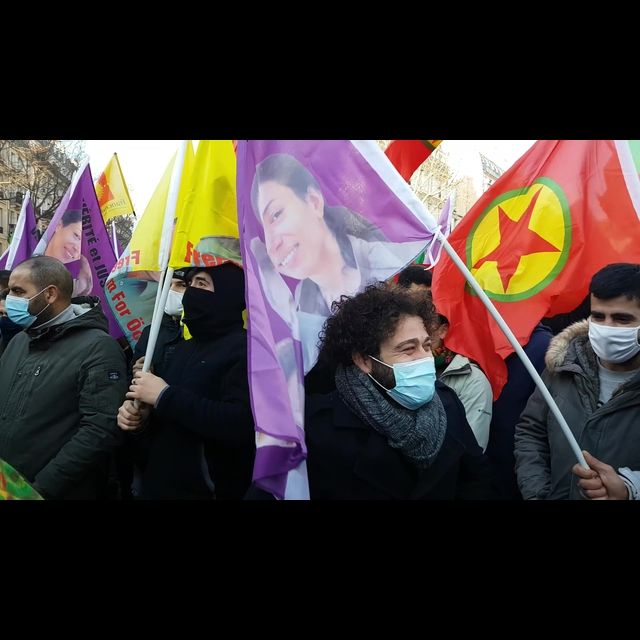PKK: (457, 173, 577, 310)
